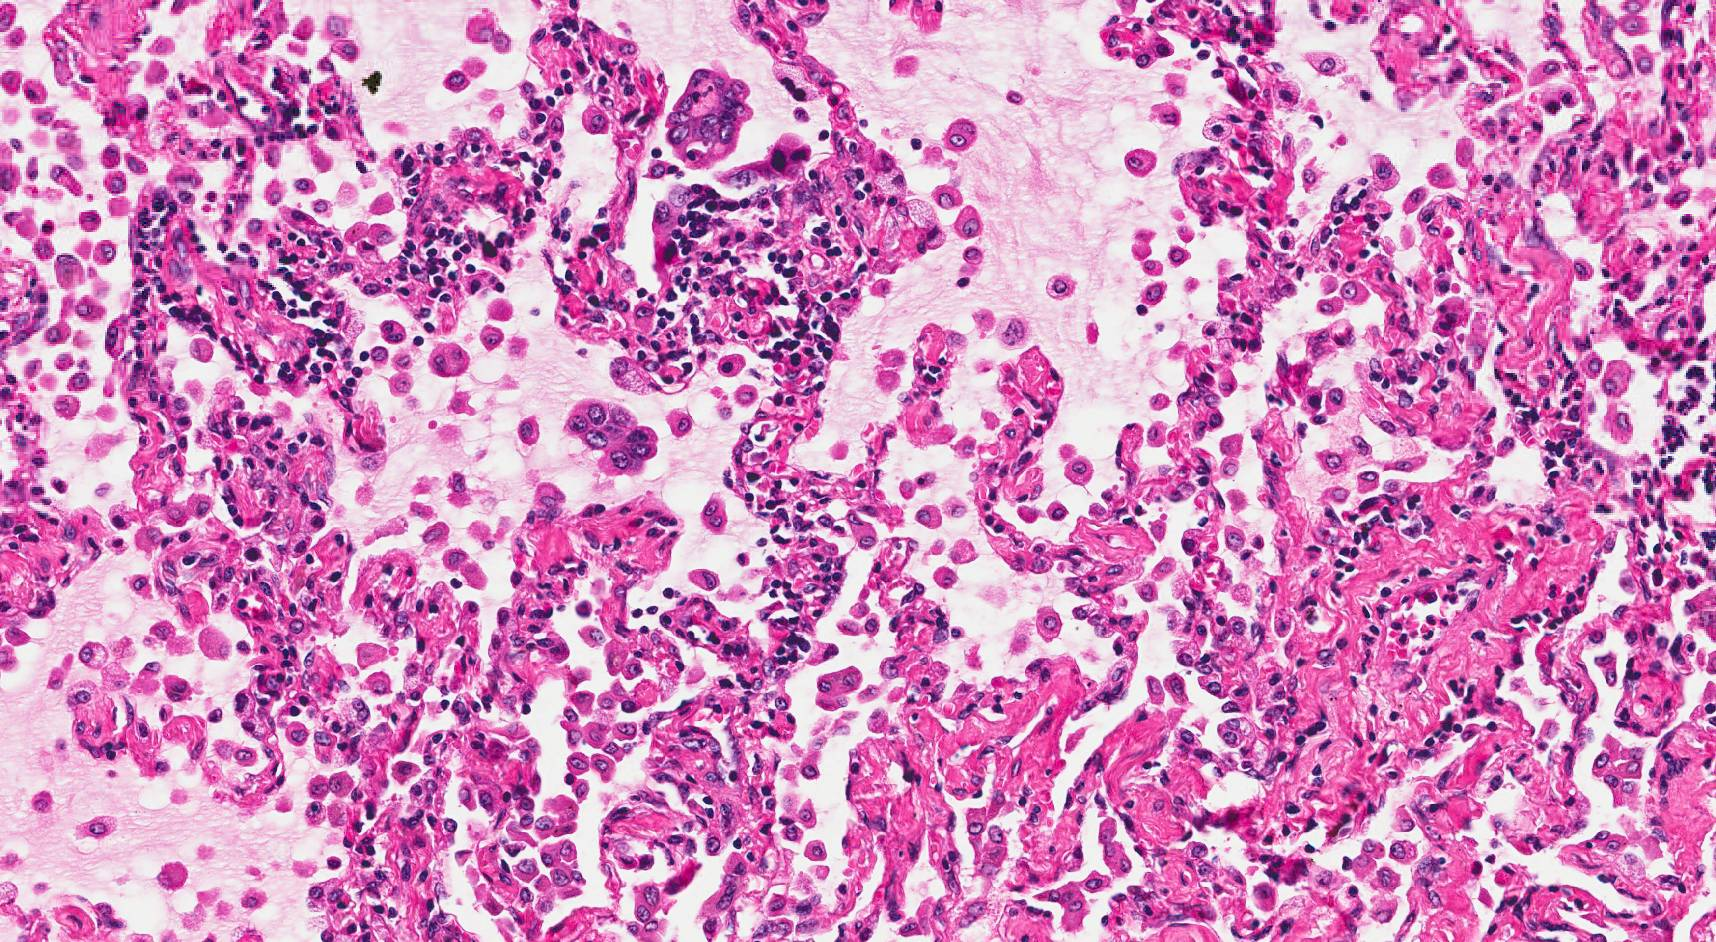stas: (661, 60, 761, 172), (562, 394, 662, 473)
